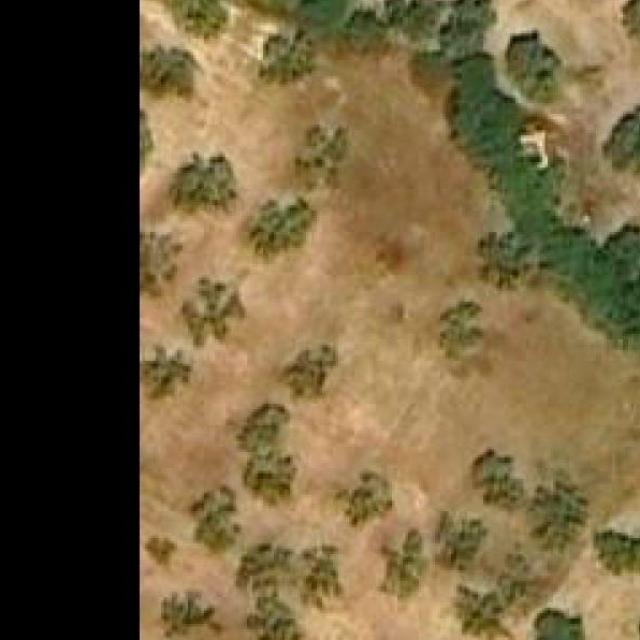Tree: (228, 400, 298, 506), (238, 198, 317, 262), (174, 278, 244, 346), (526, 479, 592, 549), (504, 28, 560, 103), (190, 488, 242, 558), (432, 296, 488, 361), (442, 584, 507, 638), (435, 511, 488, 574), (176, 154, 233, 212), (274, 345, 338, 396), (380, 530, 426, 600), (435, 0, 494, 54), (333, 474, 392, 527), (142, 344, 193, 402), (295, 130, 349, 184), (138, 230, 180, 298), (238, 543, 296, 592), (297, 546, 343, 606), (142, 46, 193, 98), (477, 452, 523, 509), (603, 103, 640, 173), (381, 0, 440, 41), (342, 9, 388, 60), (593, 530, 640, 576), (161, 597, 213, 638), (249, 597, 298, 640), (260, 40, 308, 81), (172, 0, 226, 33), (528, 610, 586, 640), (608, 219, 640, 273), (302, 0, 343, 28), (147, 538, 177, 565), (623, 0, 640, 40)
